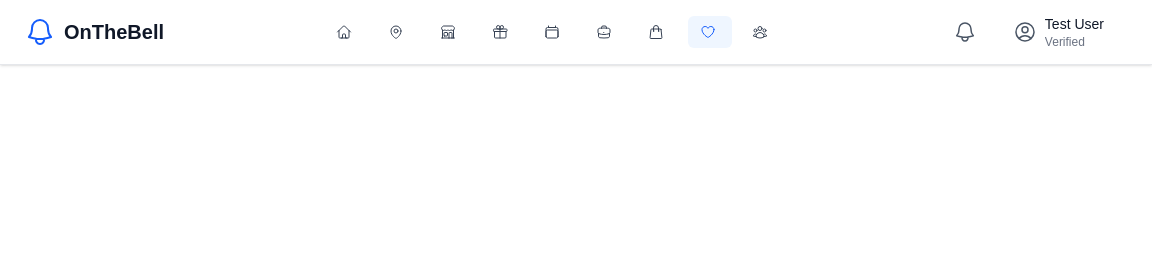
Navbar Component › handles user menu interactions
The width and height of the screenshot is (1152, 255).
Click the text "Test User": click(1074, 24) [1045,14,1104,34]
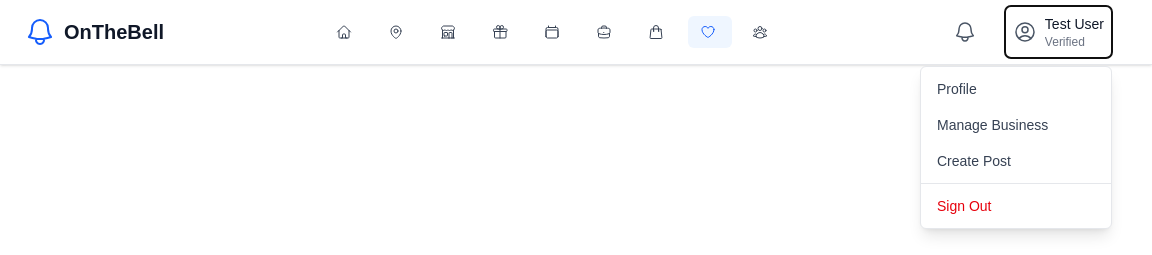
Check: the link "Profile" is shown, box [937,81,977,97]
Check: the button "Sign Out" is shown, box [921,188,1111,224]
